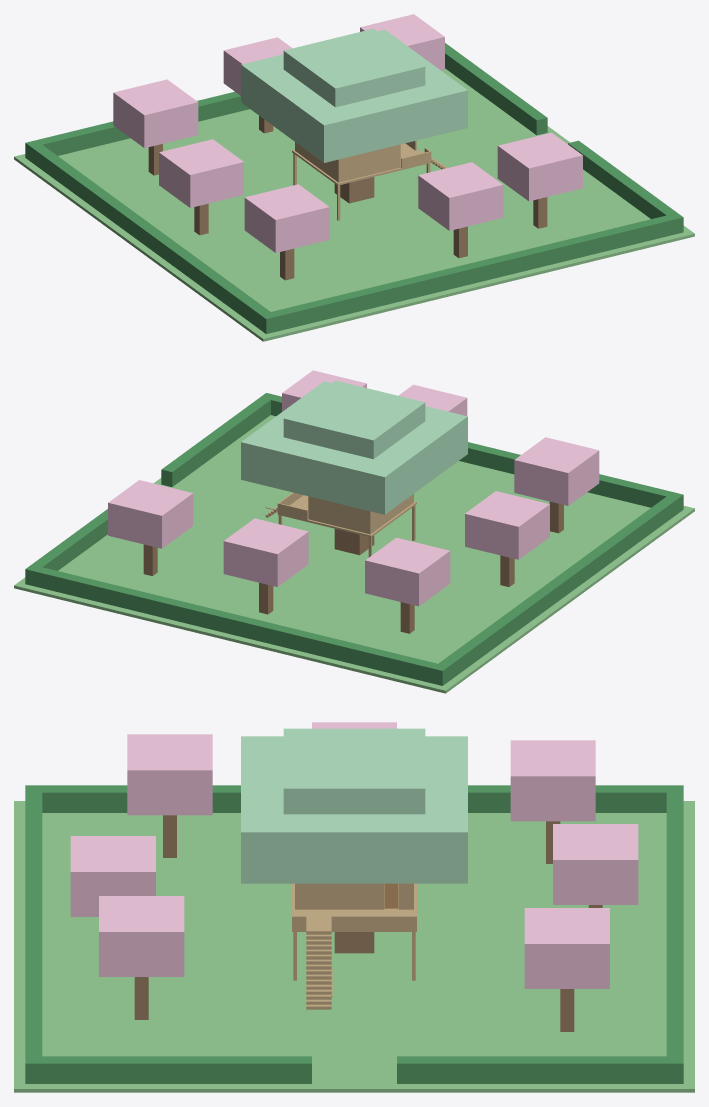
File: tree_house.glb
3 views of the same model, one above another, from view 1: azimuth 30°, elevation 25°; view 2: azimuth 150°, elevation 25°; view 3: azimuth 270°, elevation 25° (orthographic). The views are drawn at different scales.
Parts seen in each view (by area): view 1: Ground_Glade, decor_BigTree_Crown, Hedge_S_1, decor_BigTree_Crown_Top, Hedge_W_1, decor_Tree_1_Crown, decor_Tree_7_Crown, decor_Tree_4_Crown, decor_Tree_3_Crown, decor_Tree_5_Crown, Hedge_N_1, Hedge_E_1 (+5 smaller); view 2: Ground_Glade, decor_BigTree_Crown, Hedge_N_1, decor_BigTree_Crown_Top, Hedge_W_1, decor_Tree_2_Crown, decor_Tree_6_Crown, decor_Tree_3_Crown, decor_Tree_1_Crown, decor_Tree_5_Crown, Hedge_S_1, Hedge_E_2 (+5 smaller); view 3: Ground_Glade, decor_BigTree_Crown, decor_BigTree_Crown_Top, Hedge_E_1, Hedge_E_2, decor_Tree_3_Crown, decor_Tree_1_Crown, decor_Tree_2_Crown, decor_Tree_4_Crown, decor_Tree_6_Crown, Hedge_W_1, decor_Tree_7_Crown (+10 smaller).
Part boxes in pixels (left/top/right/bottom): Ground_Glade: left=14, top=68, right=694, bottom=341; decor_BigTree_Crown: left=241, top=29, right=467, bottom=162; Hedge_S_1: left=260, top=213, right=683, bottom=333; decor_BigTree_Crown_Top: left=283, top=28, right=425, bottom=107; Hedge_W_1: left=31, top=145, right=270, bottom=329; decor_Tree_1_Crown: left=113, top=79, right=198, bottom=148; decor_Tree_7_Crown: left=418, top=162, right=503, bottom=230; decor_Tree_4_Crown: left=497, top=132, right=582, bottom=201; decor_Tree_3_Crown: left=244, top=184, right=329, bottom=252; decor_Tree_5_Crown: left=159, top=139, right=243, bottom=207; Hedge_N_1: left=25, top=43, right=448, bottom=161; Hedge_E_1: left=445, top=45, right=547, bottom=135; Ground_Glade: left=14, top=415, right=694, bottom=693; decor_BigTree_Crown: left=241, top=381, right=467, bottom=514; Hedge_N_1: left=25, top=564, right=448, bottom=685; decor_BigTree_Crown_Top: left=283, top=380, right=425, bottom=459; Hedge_W_1: left=438, top=496, right=677, bottom=680; decor_Tree_2_Crown: left=108, top=480, right=193, bottom=548; decor_Tree_6_Crown: left=223, top=518, right=308, bottom=586; decor_Tree_3_Crown: left=514, top=437, right=599, bottom=505; decor_Tree_1_Crown: left=365, top=537, right=450, bottom=606; decor_Tree_5_Crown: left=465, top=491, right=549, bottom=559; Hedge_S_1: left=260, top=393, right=683, bottom=513; Hedge_E_2: left=161, top=397, right=270, bottom=486; Ground_Glade: left=14, top=801, right=694, bottom=1092; decor_BigTree_Crown: left=241, top=736, right=467, bottom=883; decor_BigTree_Crown_Top: left=283, top=728, right=425, bottom=814; Hedge_E_1: left=397, top=1056, right=666, bottom=1083; Hedge_E_2: left=42, top=1056, right=311, bottom=1083; decor_Tree_3_Crown: left=127, top=734, right=212, bottom=815; decor_Tree_1_Crown: left=510, top=740, right=595, bottom=821; decor_Tree_2_Crown: left=524, top=908, right=609, bottom=988; decor_Tree_4_Crown: left=99, top=896, right=184, bottom=976; decor_Tree_6_Crown: left=553, top=824, right=638, bottom=904; Hedge_W_1: left=42, top=785, right=666, bottom=812; decor_Tree_7_Crown: left=70, top=836, right=155, bottom=916.
Size of the model in its own units: 48 by 14.8 by 48.
